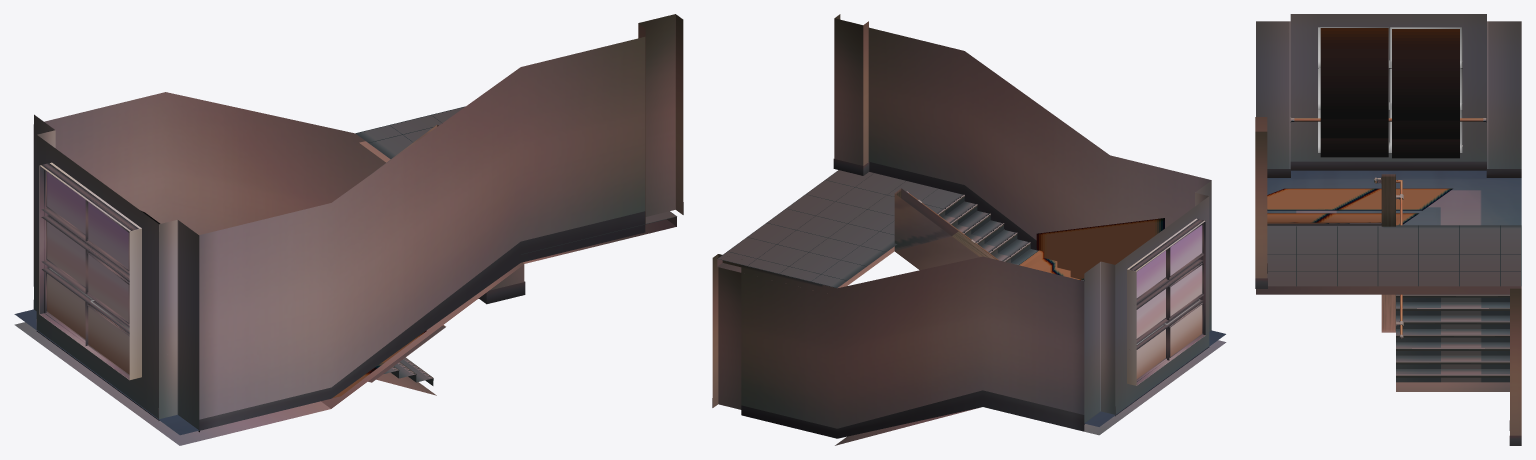
File: JpsStairs_middlefloor_evening.FBX
3 views of the same model, side by side, from view 1: azimuth 30°, elevation 25°; view 2: azimuth 150°, elevation 25°; view 3: azimuth 270°, elevation 25° (orthographic). The views are drawn at different scales.
Visible parts, largest first — view 1: Sta_middleF_wallB_eve, Sta_MiddleF_window_eve, Sta_middleF_wallF_eve, Sta_middleF_stairs_eve; view 2: Sta_middleF_wallF_eve, Sta_middleF_wallB_eve, Sta_middleF_stairs_eve, Sta_MiddleF_window_eve, Sta_middleF_spotB_eve001, Sta_middleF_spotF_eve001; view 3: Sta_middleF_stairs_eve, Sta_MiddleF_window_eve, Sta_MiddleF_beam01_add_eve, Sta_middleF_spotF_eve001, Sta_MiddleF_baseboards_eve, Sta_middleF_wallB_eve, Sta_middleF_wallF_eve, Sta_MiddleF_beam_add_eve.
Part boxes in pixels (x1,y1,x2,y2): Sta_middleF_wallB_eve: [199, 14, 683, 430]; Sta_MiddleF_window_eve: [34, 114, 199, 430]; Sta_middleF_wallF_eve: [33, 92, 525, 308]; Sta_middleF_stairs_eve: [14, 106, 676, 445]; Sta_middleF_wallF_eve: [712, 254, 1084, 438]; Sta_middleF_wallB_eve: [833, 14, 1211, 250]; Sta_middleF_stairs_eve: [717, 170, 1226, 445]; Sta_MiddleF_window_eve: [1084, 180, 1211, 423]; Sta_middleF_spotB_eve001: [1036, 218, 1164, 280]; Sta_middleF_spotF_eve001: [1019, 250, 1080, 280]; Sta_middleF_stairs_eve: [1256, 170, 1521, 391]; Sta_MiddleF_window_eve: [1256, 14, 1521, 168]; Sta_MiddleF_beam01_add_eve: [1320, 28, 1459, 158]; Sta_middleF_spotF_eve001: [1267, 188, 1452, 225]; Sta_MiddleF_baseboards_eve: [1267, 161, 1521, 177]; Sta_middleF_wallB_eve: [1255, 117, 1267, 288]; Sta_middleF_wallF_eve: [1509, 288, 1521, 445]; Sta_MiddleF_beam_add_eve: [1318, 27, 1462, 152].
Bounding box in the file's own units: 826 × 616 × 461.
